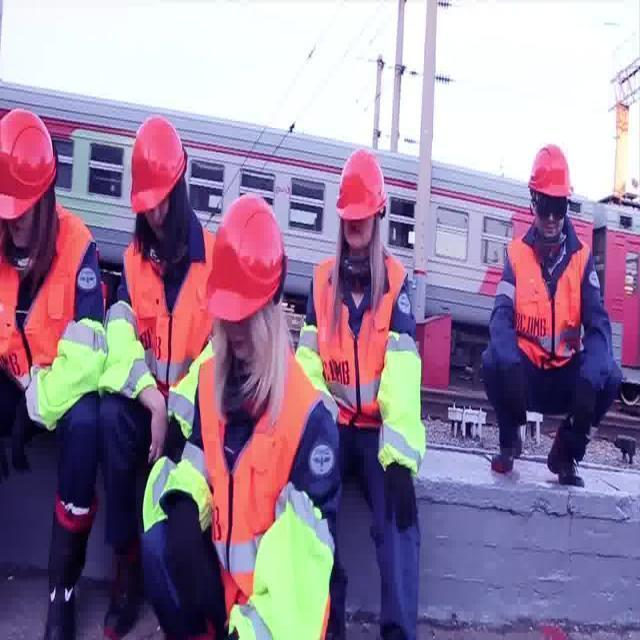boots: (32, 486, 88, 640), (94, 486, 148, 640), (544, 414, 600, 490), (483, 414, 526, 492)
gloves: (372, 449, 437, 544), (156, 488, 207, 596)
helmet: (208, 195, 284, 318), (0, 104, 58, 220), (130, 118, 188, 214), (335, 151, 388, 218), (528, 146, 571, 198)
helmet on: (209, 197, 294, 421), (117, 106, 205, 255), (329, 144, 398, 260), (0, 107, 51, 260), (519, 139, 580, 248)
no glove: (132, 381, 176, 470)
person: (299, 126, 475, 640), (142, 200, 318, 639), (1, 86, 110, 640), (120, 83, 221, 640), (492, 111, 622, 522)
vest: (198, 344, 326, 614), (0, 205, 108, 412), (310, 250, 408, 434), (120, 230, 211, 388), (508, 232, 592, 367)
